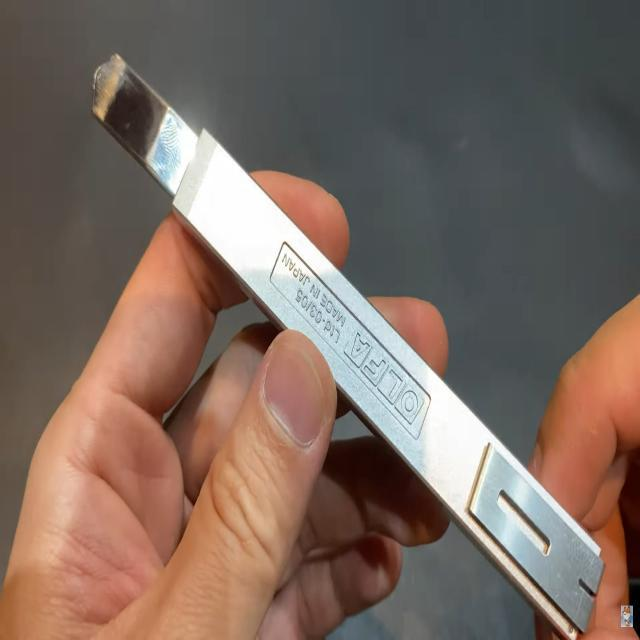cutter: (79, 32, 640, 638)
